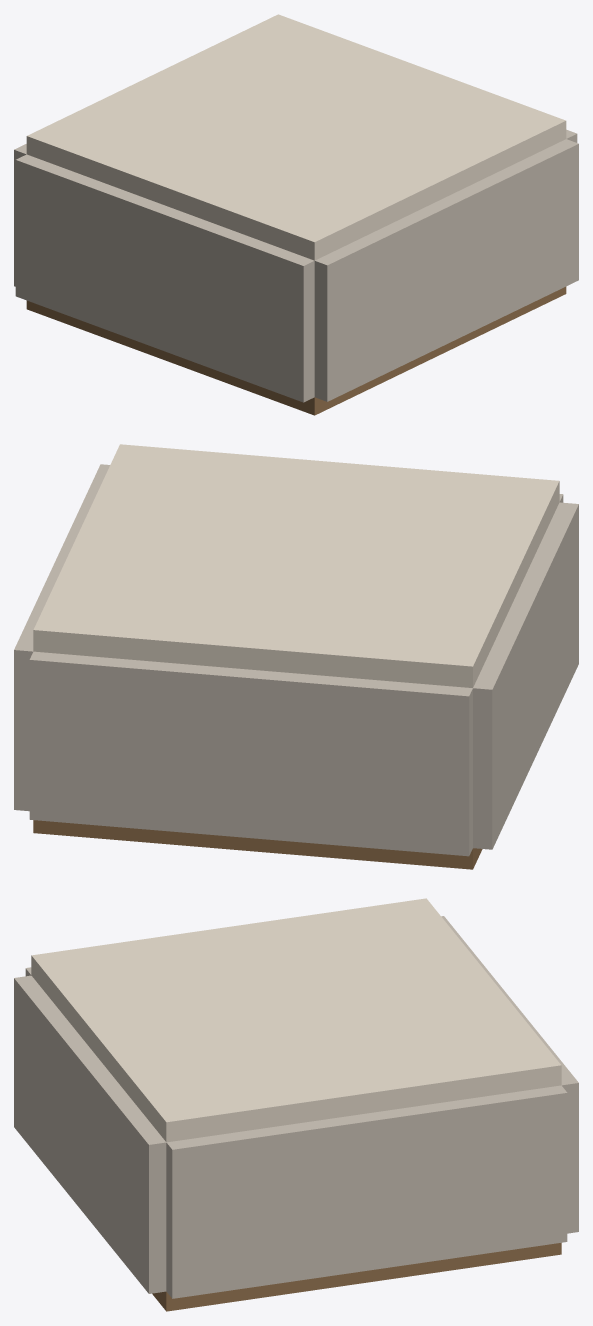
The picture shows the model from 3 angles, top to bottom: view 1: azimuth 30°, elevation 25°; view 2: azimuth 150°, elevation 25°; view 3: azimuth 270°, elevation 25°; orthographic projection. The views are drawn at different scales.
Visible parts, largest first — view 1: Ceiling, Wall_04, Wall_01, Floor; view 2: Ceiling, Wall_03, Wall_04, Floor, Wall_02; view 3: Ceiling, Wall_02, Wall_01, Floor, Wall_03.
Part boxes in pixels (<box>): Ceiling: <box>26,14,566,260</box>; Wall_04: <box>15,154,314,402</box>; Wall_01: <box>314,139,578,401</box>; Floor: <box>26,286,566,415</box>; Ceiling: <box>33,444,559,687</box>; Wall_03: <box>29,651,472,856</box>; Wall_04: <box>473,502,578,849</box>; Floor: <box>33,820,482,869</box>; Wall_02: <box>14,464,109,811</box>; Ceiling: <box>31,898,561,1142</box>; Wall_02: <box>166,1085,567,1298</box>; Wall_01: <box>14,975,166,1293</box>; Floor: <box>152,1242,561,1311</box>; Wall_03: <box>441,916,578,1233</box>.
Size of the model in its own units: 7.65 by 2.83 by 7.65.
